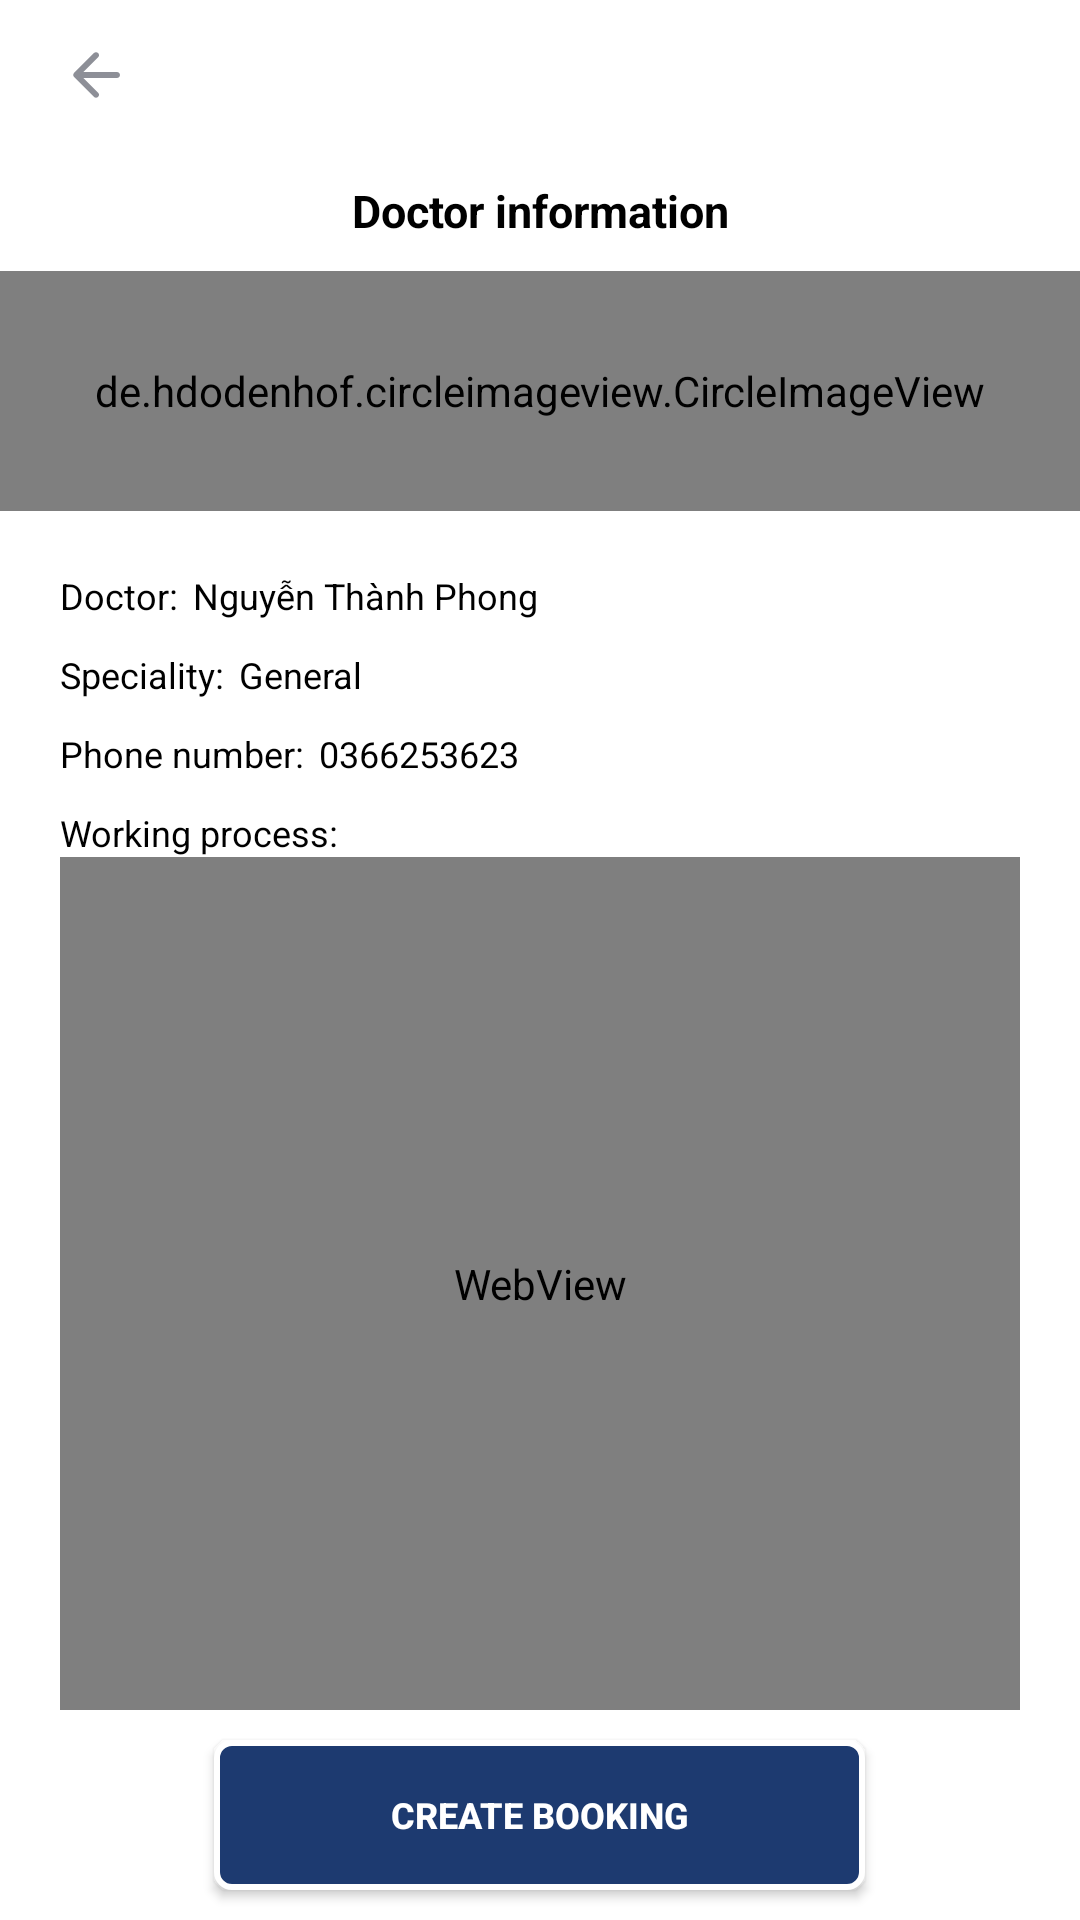

Icon click points for this 1080px x 1920px phone screenshot, format (x=x, y=y):
arrow back: (x=96, y=75)
